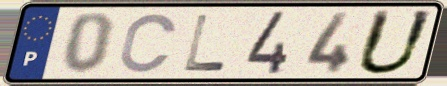0: (60, 10, 118, 76)
4: (303, 10, 354, 76), (244, 9, 291, 76)
C: (116, 11, 181, 75)
L: (181, 13, 229, 73)
U: (351, 8, 438, 77)
